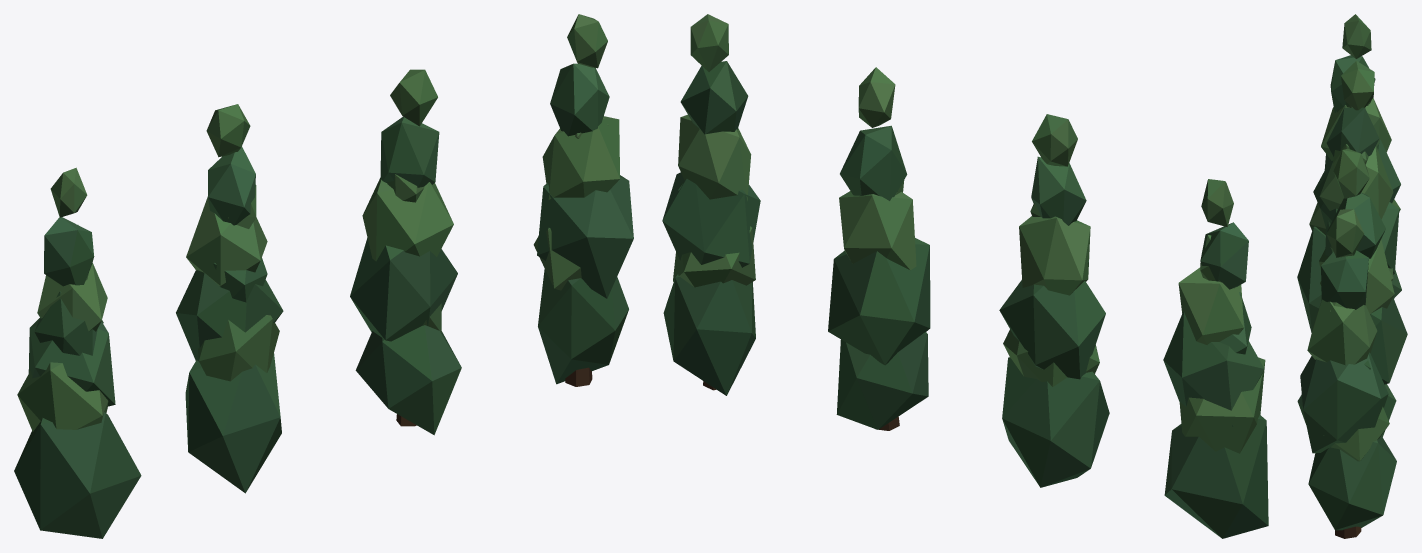
File: ranvora_v2_cypress.glb
The picture shows the model from 3 angles, left to right: view 1: azimuth 30°, elevation 25°; view 2: azimuth 150°, elevation 25°; view 3: azimuth 270°, elevation 25°; orthographic projection. The views are drawn at different scales.
Parts seen in each view (by area): view 1: cypress_B_mesh, cypress_A_mesh, cypress_C_mesh, cypress_D_mesh; view 2: cypress_B_mesh, cypress_D_mesh, cypress_C_mesh, cypress_A_mesh; view 3: cypress_D_mesh, cypress_C_mesh, cypress_B_mesh, cypress_A_mesh.
Boxes of the visible parts, left/top/right/bottom form: cypress_B_mesh: left=176, top=104, right=283, bottom=493; cypress_A_mesh: left=14, top=167, right=141, bottom=538; cypress_C_mesh: left=350, top=69, right=461, bottom=435; cypress_D_mesh: left=533, top=14, right=633, bottom=386; cypress_B_mesh: left=999, top=114, right=1109, bottom=487; cypress_D_mesh: left=662, top=14, right=760, bottom=395; cypress_C_mesh: left=828, top=67, right=930, bottom=430; cypress_A_mesh: left=1163, top=179, right=1268, bottom=538; cypress_D_mesh: left=1300, top=209, right=1396, bottom=538; cypress_C_mesh: left=1297, top=149, right=1407, bottom=436; cypress_B_mesh: left=1319, top=61, right=1399, bottom=280; cypress_A_mesh: left=1297, top=14, right=1401, bottom=332.
Bounding box in the file's own units: 14.32 × 8.82 × 2.55.
